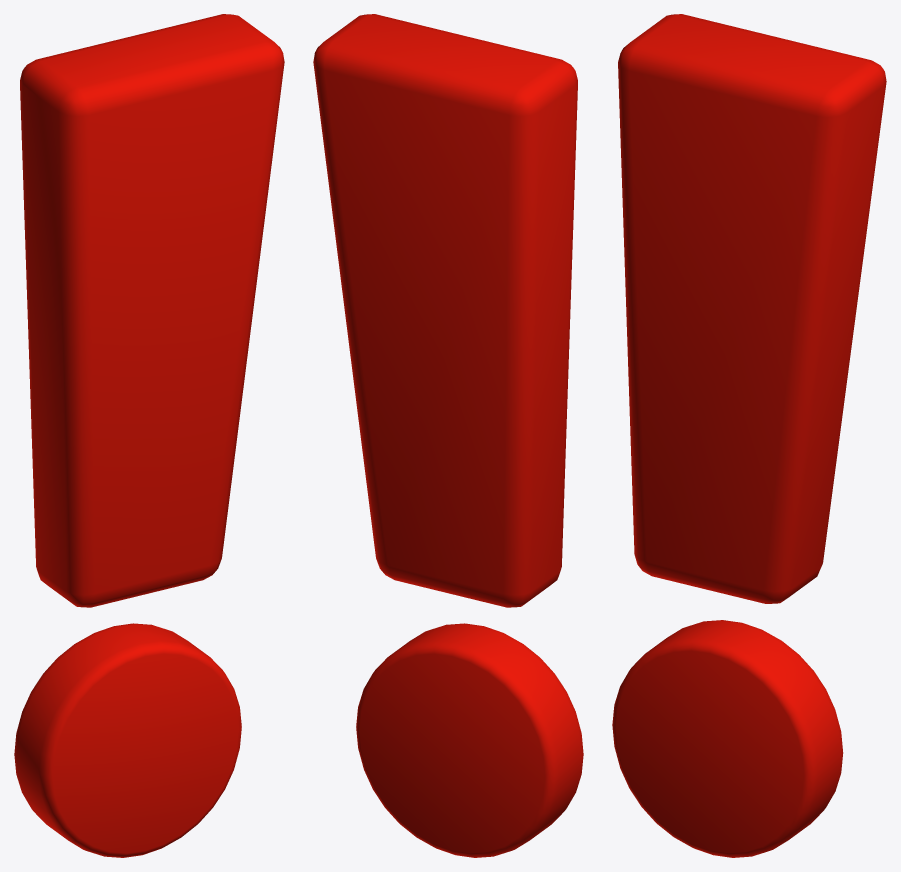
The model's file is Unlem.fbx.
3 renders of one model, left to right at view 1: azimuth 30°, elevation 25°; view 2: azimuth 150°, elevation 25°; view 3: azimuth 330°, elevation 25°, orthographic.
Visible parts, largest first — view 1: Cylinder.001; view 2: Cylinder.001; view 3: Cylinder.001.
Boxes of the visible parts, x1,y1,x2,y2 form: Cylinder.001: (14,14,284,857); Cylinder.001: (313,14,583,857); Cylinder.001: (612,14,886,857).
Size of the model in its own units: 94.05 by 300 by 40.
